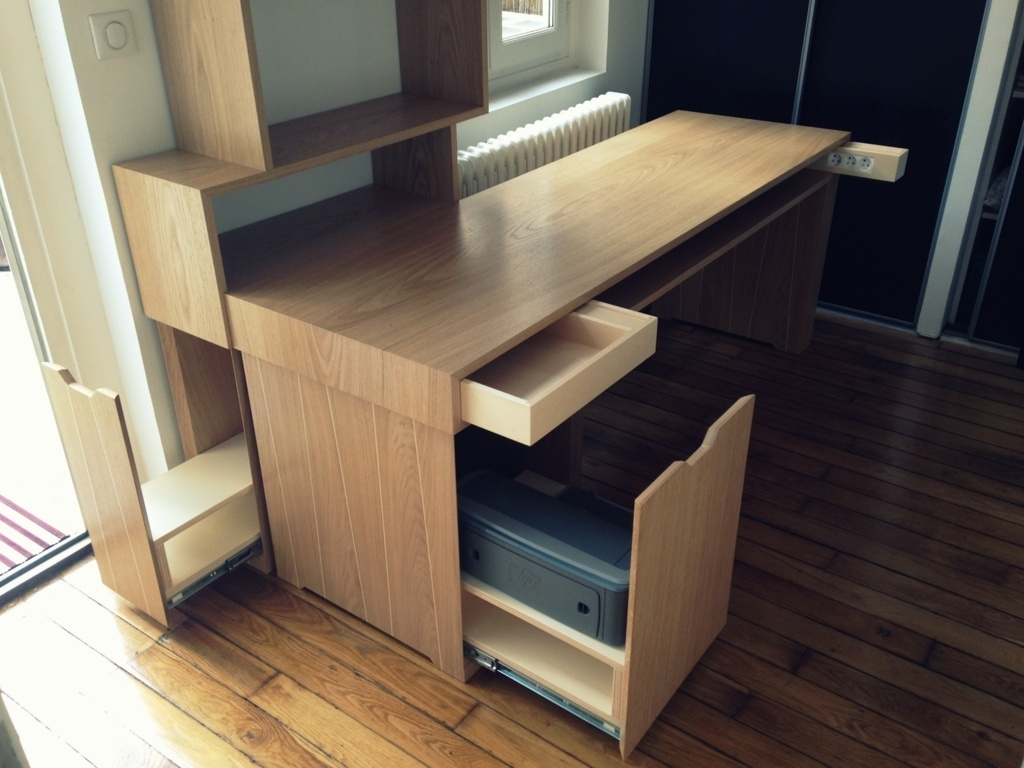Table: (318, 263, 421, 371)
